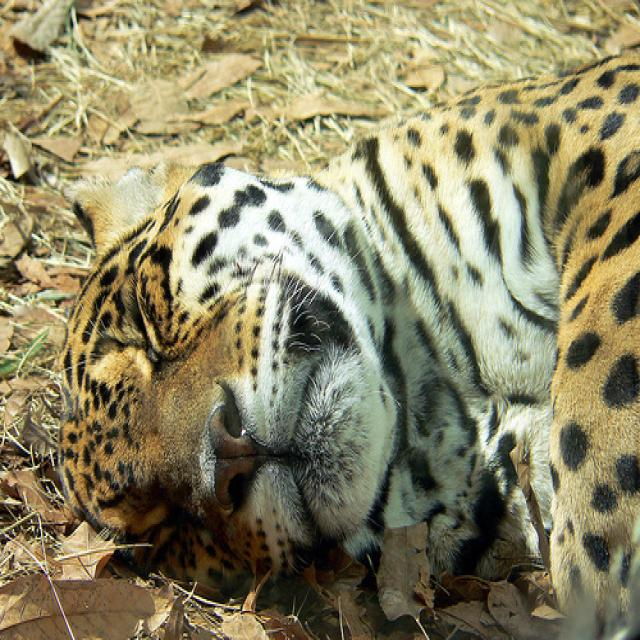Leopard: (33, 38, 638, 636)
